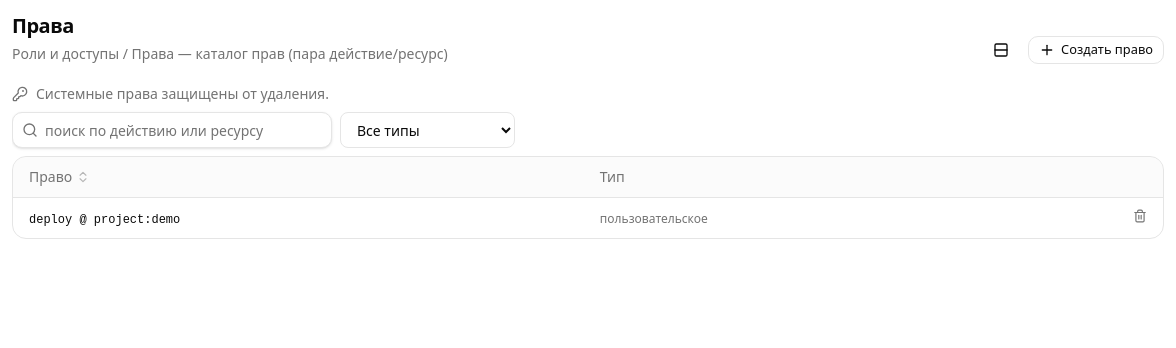
Test: PermissionsPage › пустой результат фильтра → empty-state «ничего не найдено»
Expected: the text "deploy @ project:demo" is shown, [29,213,180,227]
Type "zzz-no-match" into the field named "Поиск по каталогу прав" at point(172, 130), box [12,112,332,148]
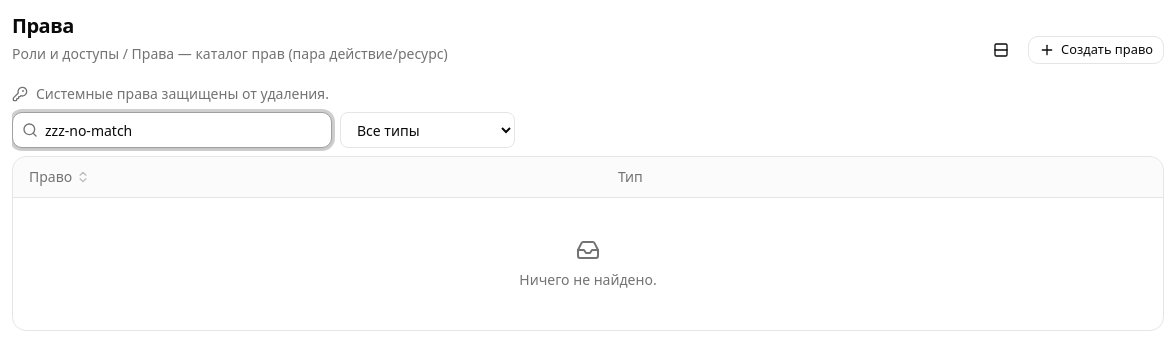
Result: the text "Ничего не найдено." is shown at [519,238,657,289]
Result: the text "deploy @ project:demo" is gone
